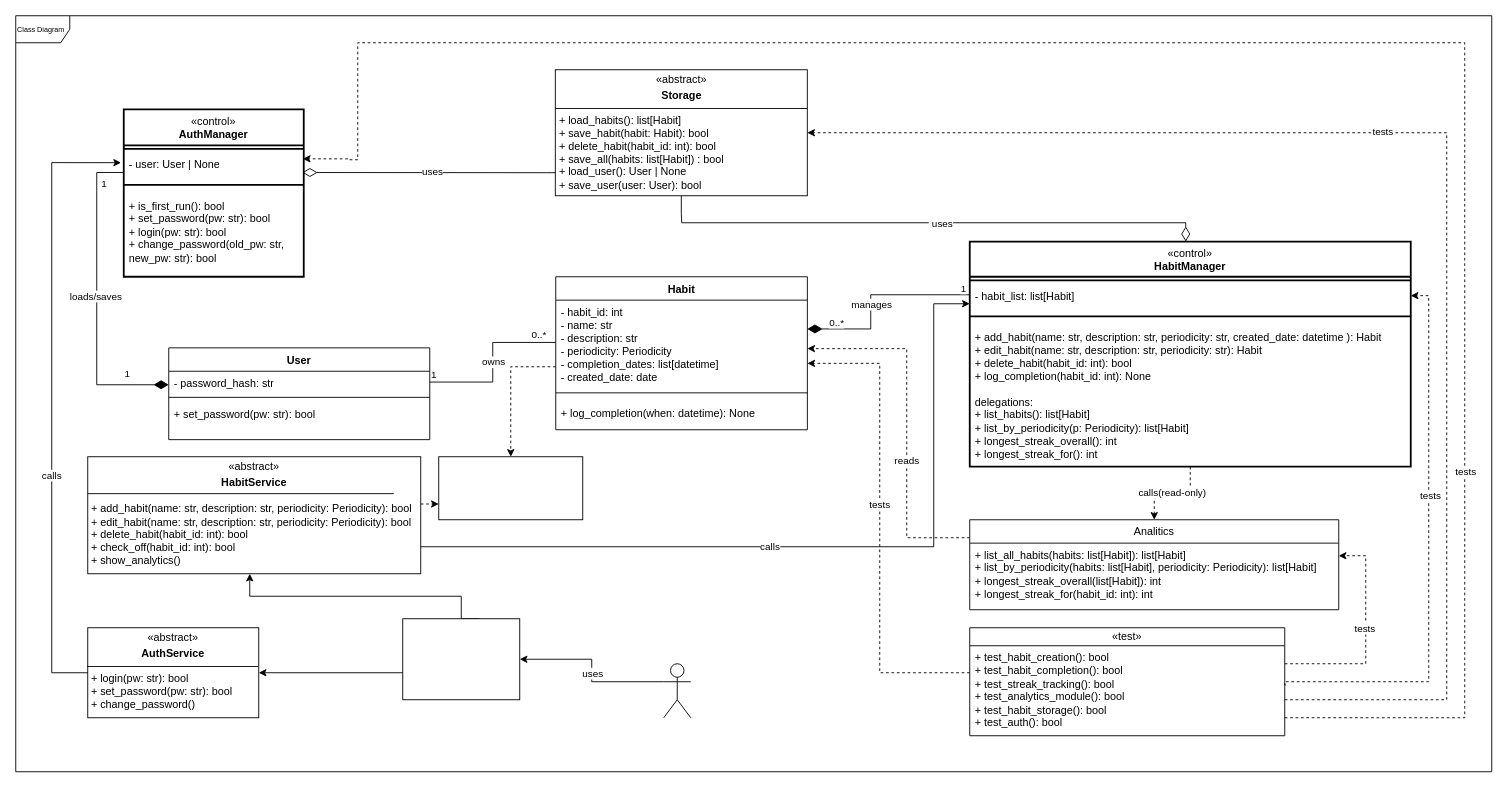
Some shapes in this 1508 by 788 pixel diagram are drawn without their labels. The centre of each missing label's shape, as x and y in pixels:
EndUser: (677,690)
Periodicity daily weekly: (510,488)
«boundary» CLI + run() + login() + exit(): (461,659)
